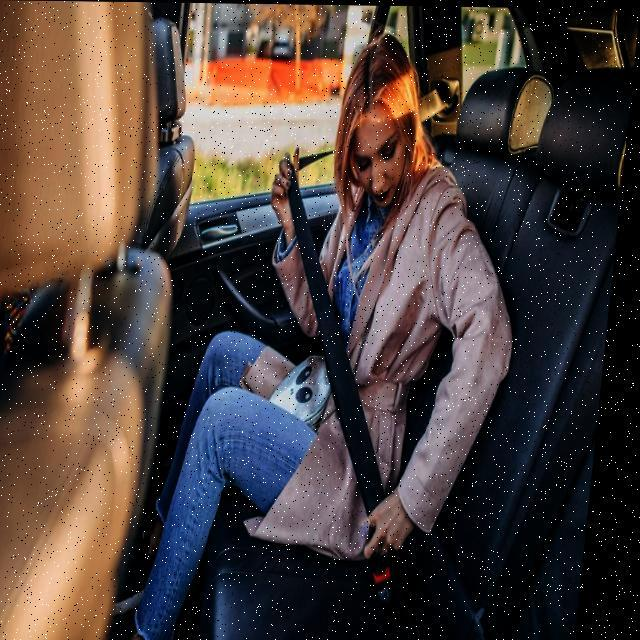seatbelt: (263, 190, 435, 552)
